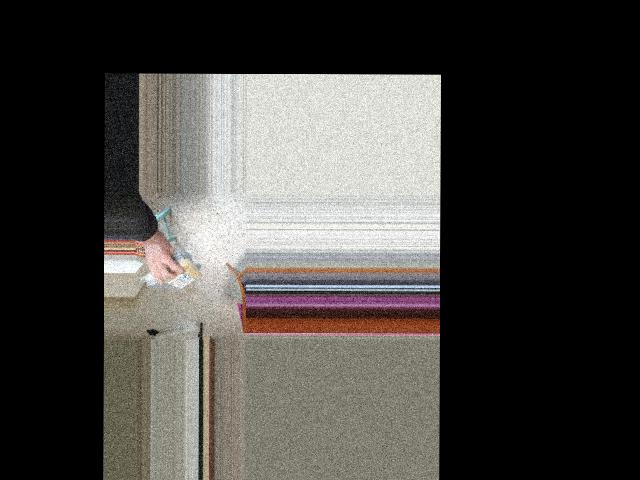cheese: (144, 260, 206, 289)
